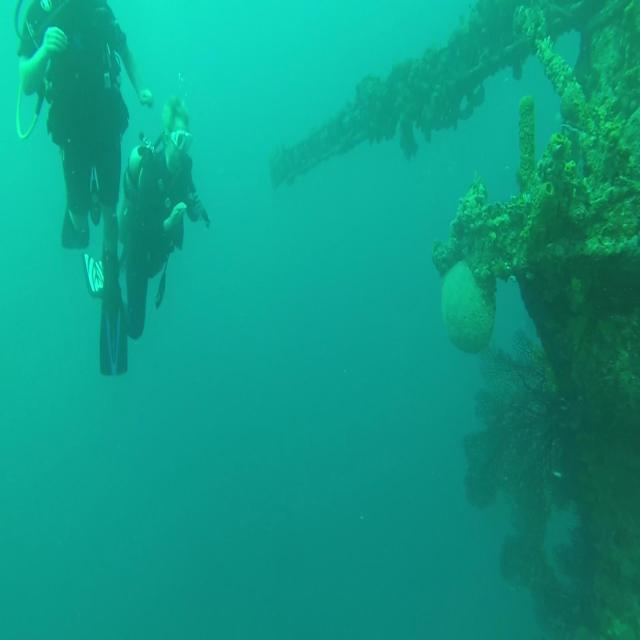human: (14, 0, 154, 375), (118, 95, 210, 342)
